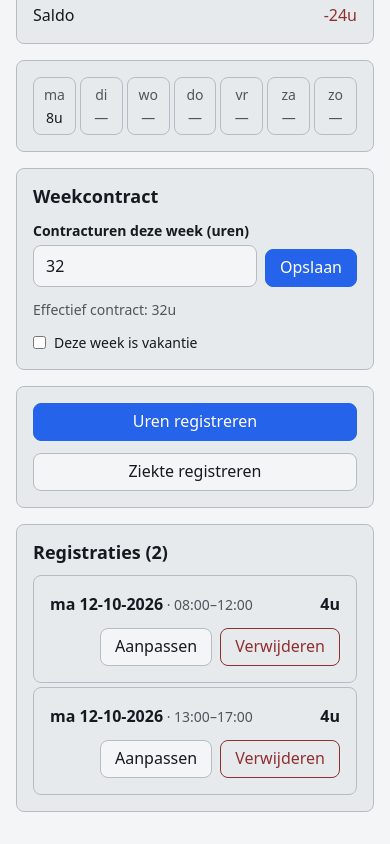
Test: WeekDetailPage › weigert bij het wijzigen een tijdvak dat een andere registratie overlapt
The width and height of the screenshot is (390, 844).
(page scrolled)
Click the button "Aanpassen" below "· 13:00–17:00".
click(156, 759)  # box x1=100 y1=740 x2=212 y2=778
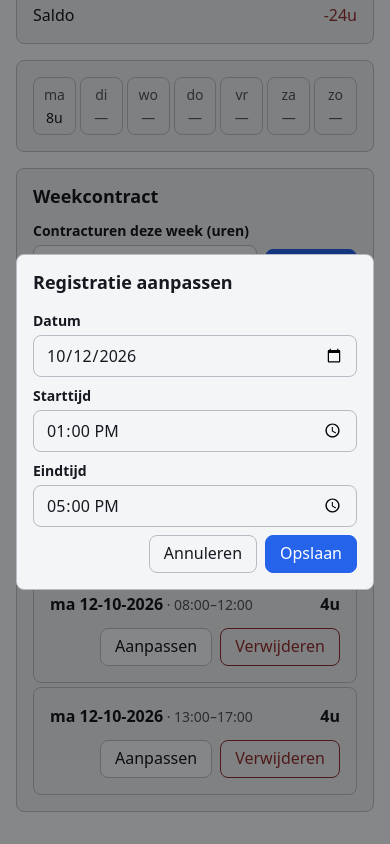
Replace the text in the time field with id "registration-start" with "08:00" at (195, 431), box x1=33 y1=410 x2=357 y2=452
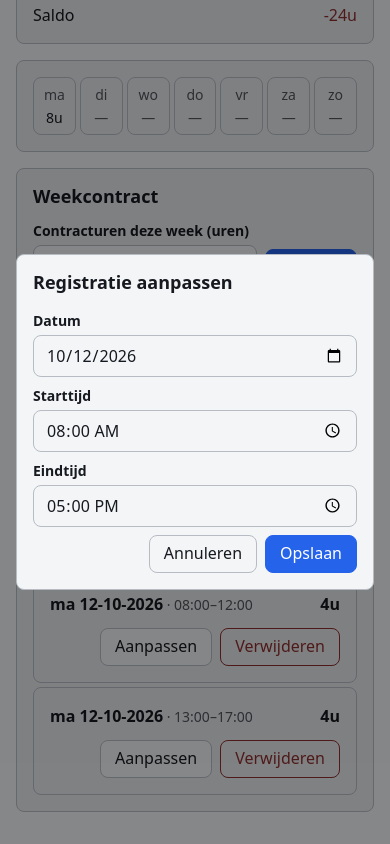
Replace the text in the time field with id "registration-end" with "13:00" at (195, 506), box x1=33 y1=485 x2=357 y2=527
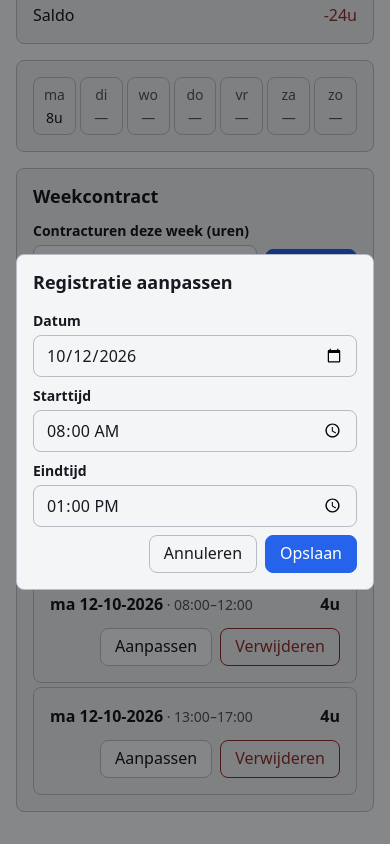
Submit the form, box x1=33 y1=310 x2=357 y2=573
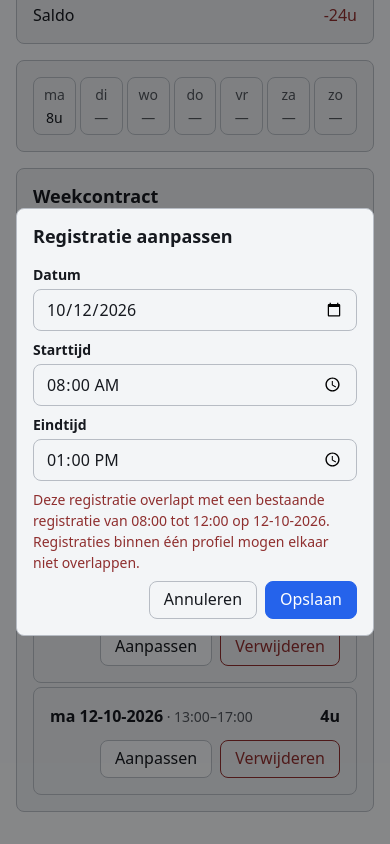
Result: the text "overlapt met een bestaande registratie van 08:00 tot 12:00" is shown at x1=33 y1=490 x2=330 y2=572
